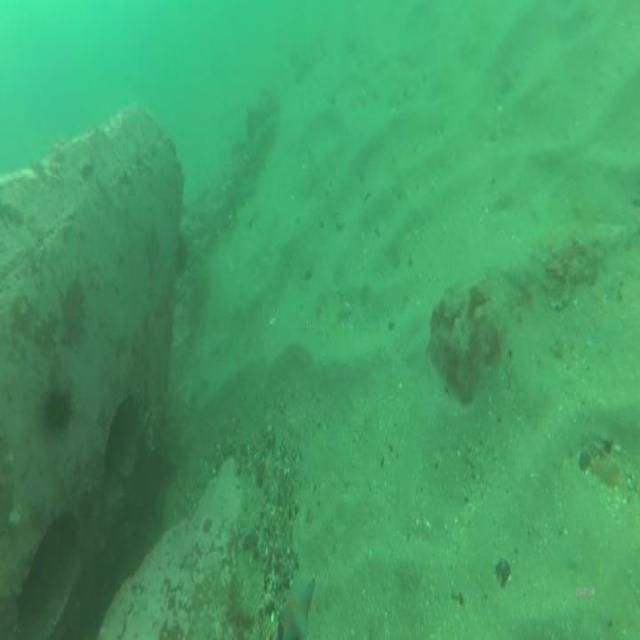echinus: (43, 382, 73, 440)
starfish: (272, 564, 317, 640)
